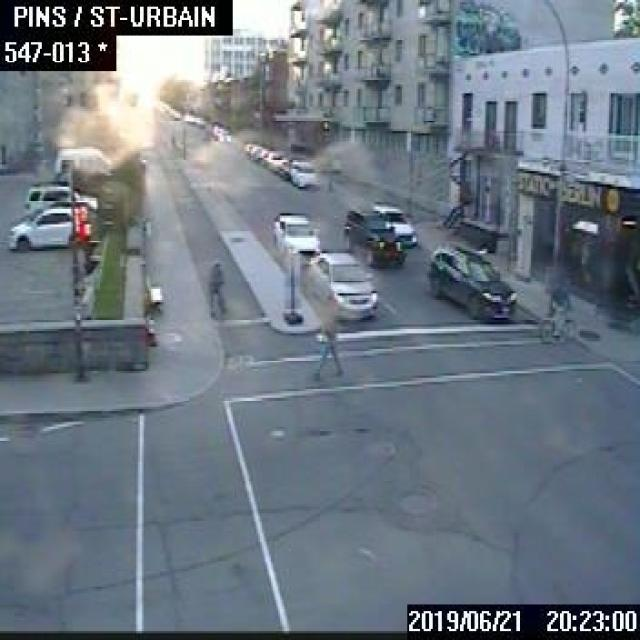cyclist: (534, 282, 574, 342)
pedestrian: (311, 311, 342, 378), (206, 258, 227, 318)
vehicle: (426, 244, 516, 316), (307, 250, 376, 319), (342, 206, 406, 266), (8, 204, 72, 246), (271, 210, 320, 256), (24, 183, 97, 213), (371, 200, 416, 245), (54, 145, 112, 171), (32, 199, 87, 219), (288, 157, 318, 187), (261, 149, 286, 168), (275, 158, 290, 176), (249, 143, 264, 158), (216, 128, 231, 141), (243, 142, 256, 153)
